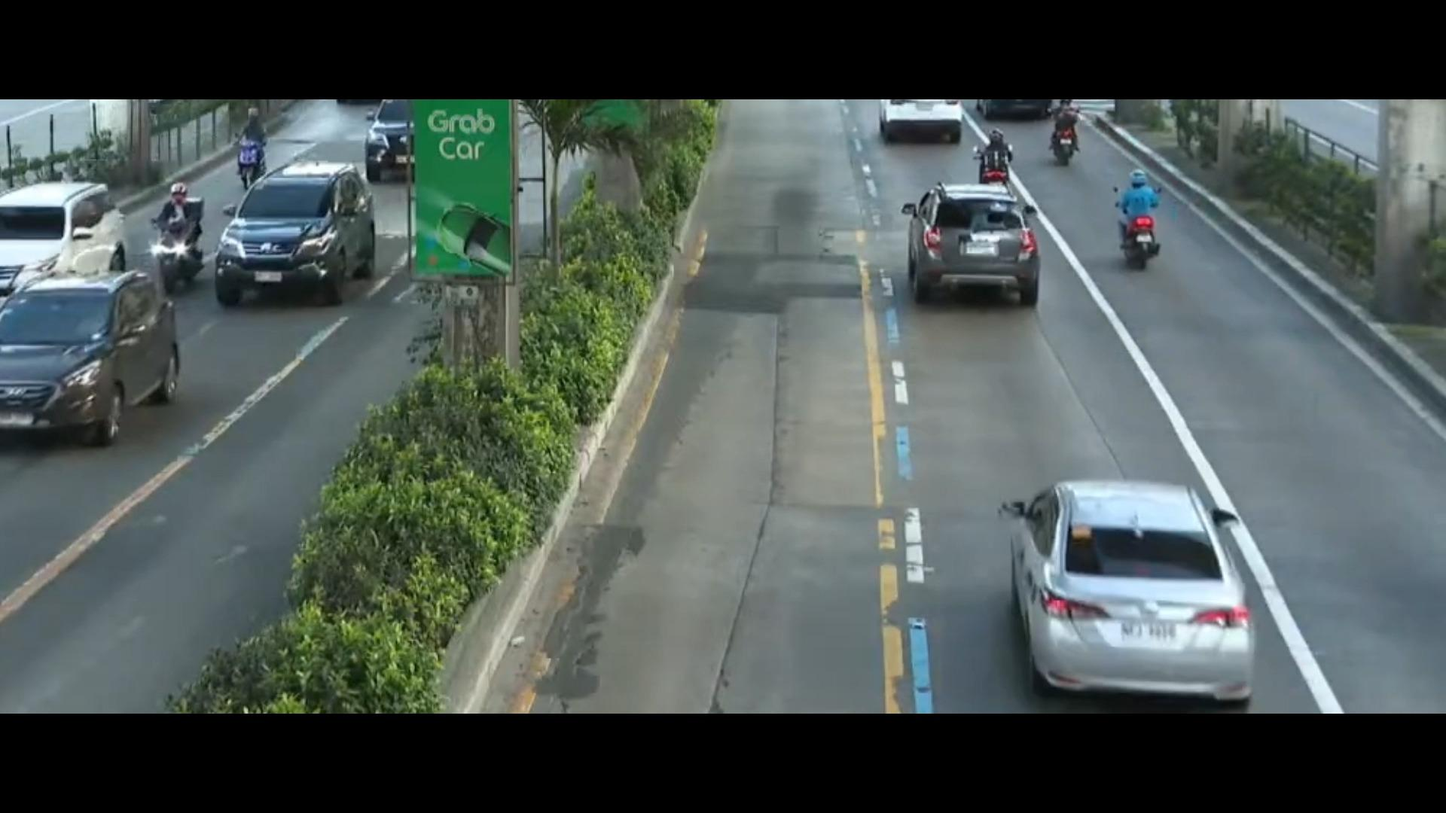Motorcycle: (1099, 142, 1173, 280), (144, 177, 198, 286), (1037, 104, 1089, 180), (230, 104, 275, 191), (976, 136, 1025, 198)
SUV: (0, 269, 209, 461), (214, 157, 392, 329), (895, 172, 1050, 332), (0, 164, 143, 302)
Sedan: (1021, 441, 1277, 698)
